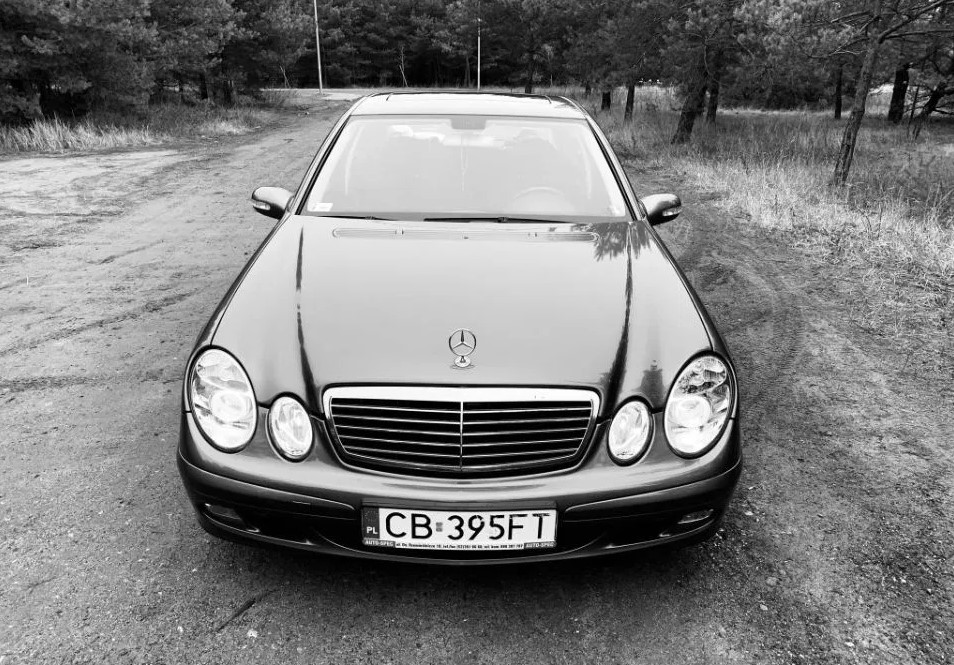number_plate: (341, 491, 582, 559)
